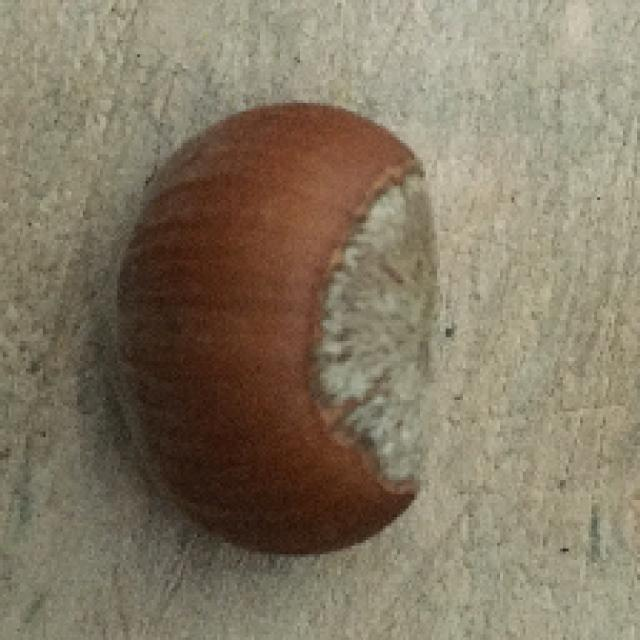qualityHazelnut: (110, 102, 432, 557)
